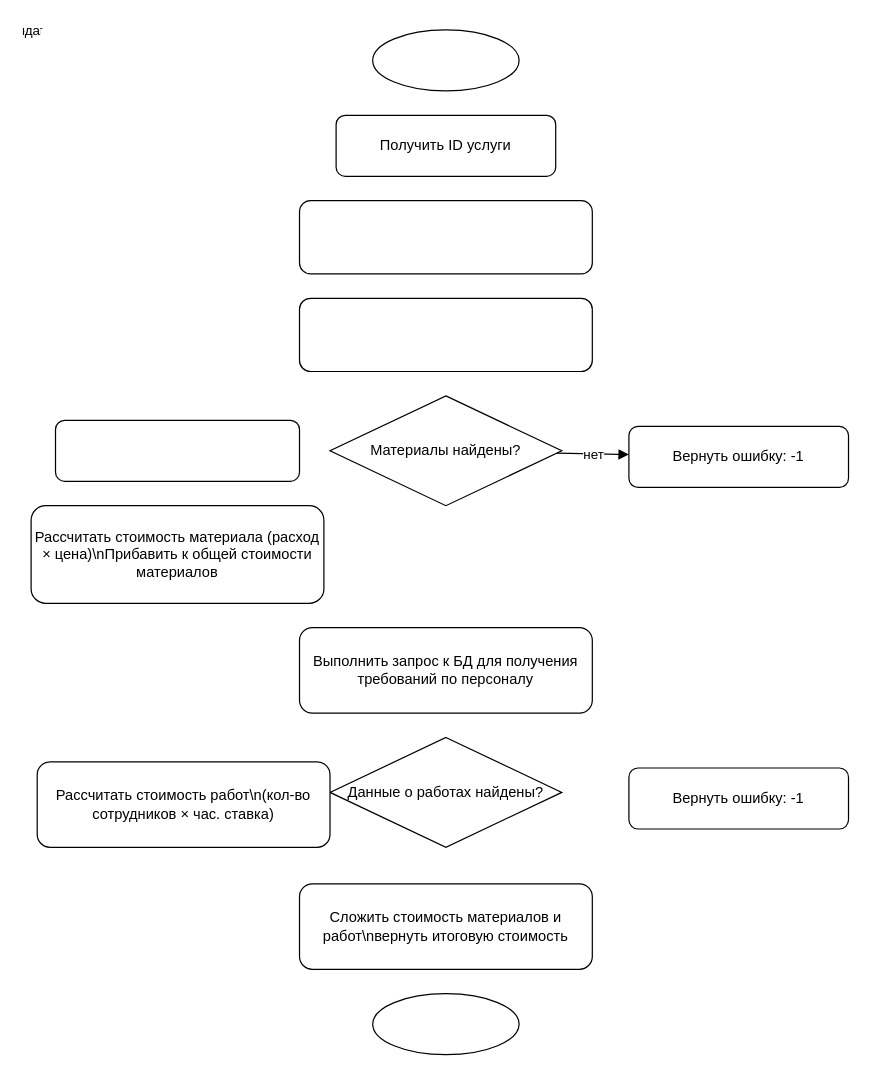
This 870x1076 diagram has some shape labels left out. The centre of each missing label's shape, as x and y in pixels:
"Выполнить запрос к БД для получения материалов" goes at (x=445, y=334).
"Инициализировать переменные:\nстоимостьМатериалов = 0\nстоимостьРабот = 0" goes at (x=445, y=236).
"Каждый найденный материал" goes at (x=177, y=450).
"конец" goes at (x=445, y=1023).
"начало" goes at (x=445, y=60).
